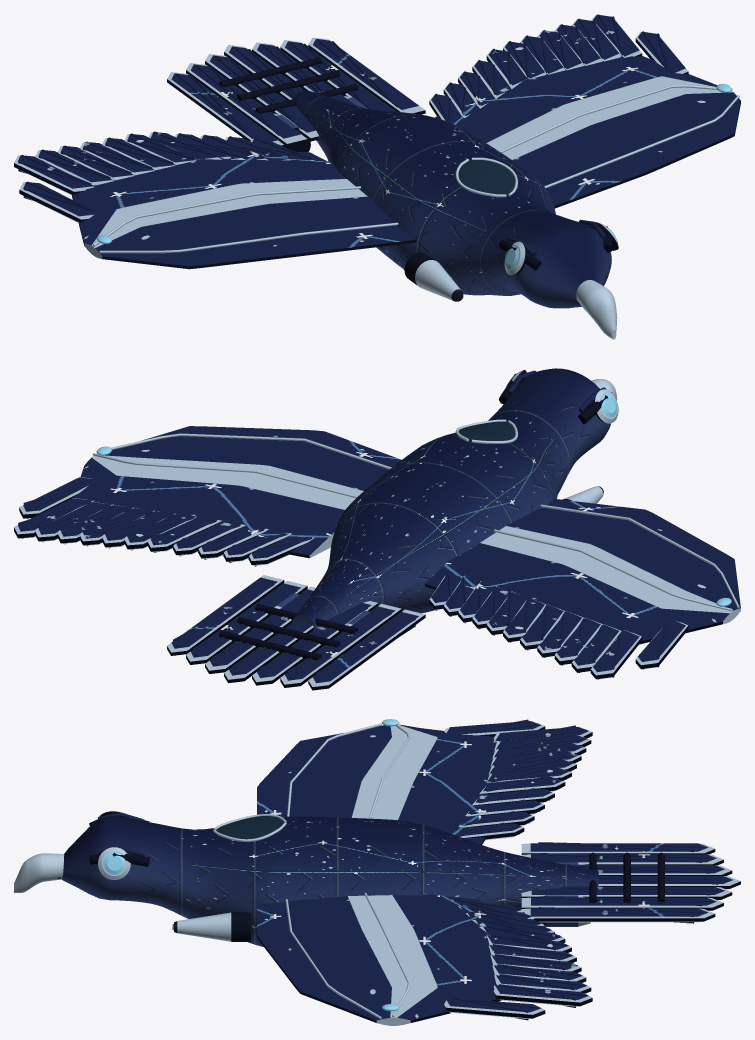
3 views of the same model, one above another, from view 1: azimuth 30°, elevation 25°; view 2: azimuth 150°, elevation 25°; view 3: azimuth 270°, elevation 25° (orthographic). The views are drawn at different scales.
Parts seen in each view (by area): view 1: goshawk_hull; view 2: goshawk_hull; view 3: goshawk_hull.
Boxes of the visible parts, <box> form: goshawk_hull: <box>14,14,740,339</box>; goshawk_hull: <box>14,368,740,690</box>; goshawk_hull: <box>14,719,740,1025</box>.
Size of the model in its own units: 63.21 by 11.85 by 66.
Materials: 1 (1 with a texture image).
